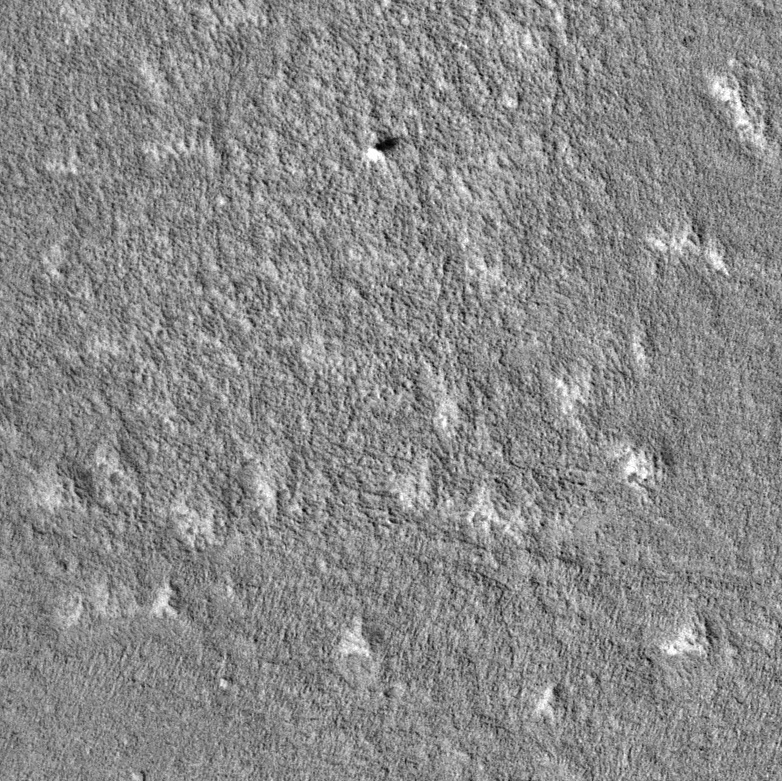dust_devil: (365, 135, 402, 164)
